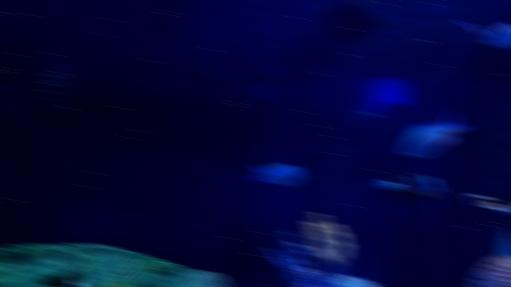Fish: (402, 113, 469, 157), (379, 173, 442, 198), (253, 163, 302, 184), (485, 31, 510, 49), (357, 0, 364, 5)
